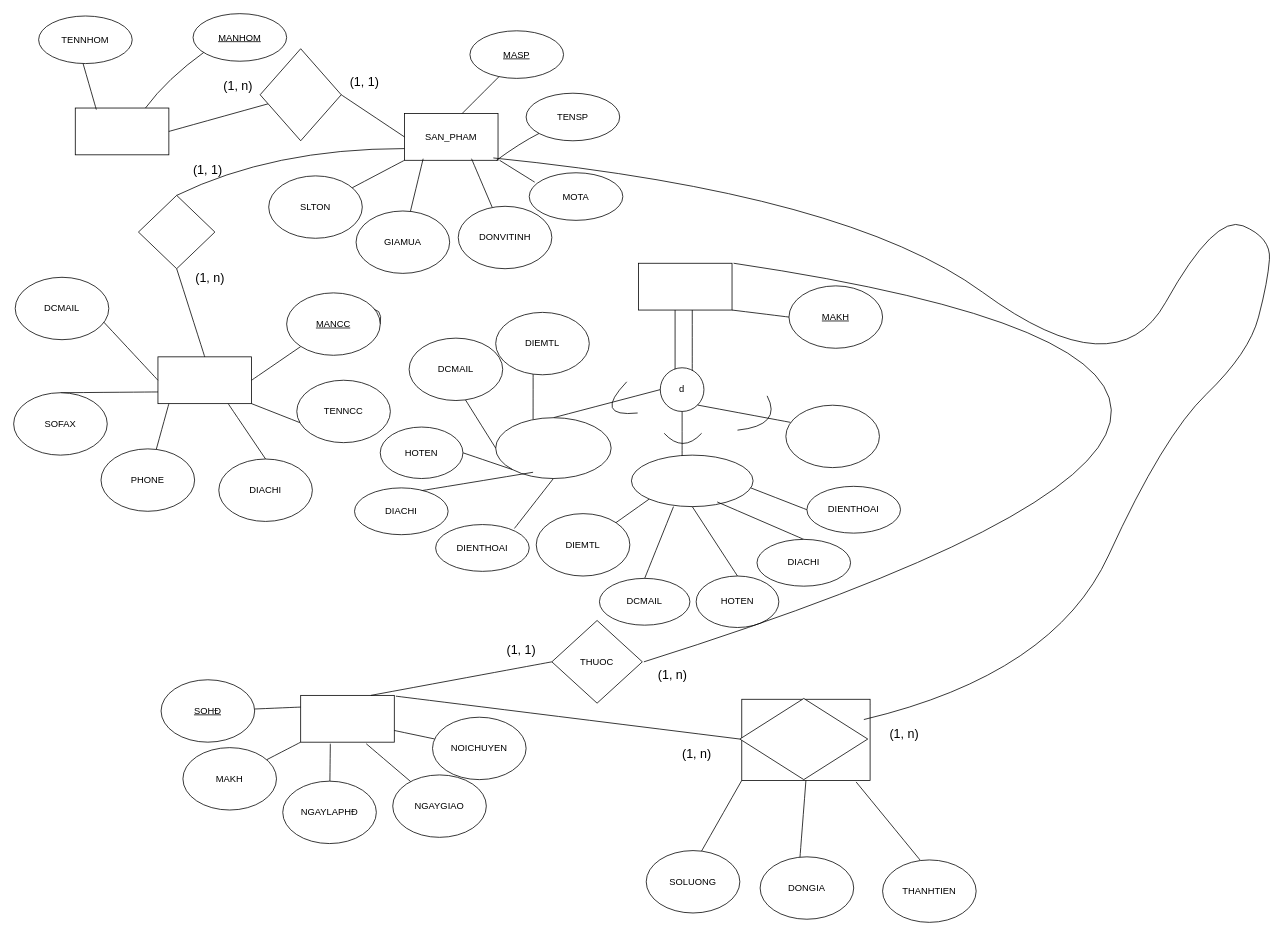
This 1284x936 diagram has some shape labels left out. Each missing label, with the centre of its shape:
"BAO_GOM" goes at point (300, 94).
"CHI_TIET_SAN_PHAM" goes at point (803, 739).
"CUNG_CAP" goes at point (176, 232).
"HOA_DON" goes at point (347, 718).
"KHACH_HANG" goes at point (685, 286).
"NHA_CUNG_CAP" goes at point (204, 380).
"NHOM_SAN_PHAM" goes at point (121, 131).
"TV" goes at point (692, 480).
"VIP" goes at point (553, 448).
"VL" goes at point (832, 436).
